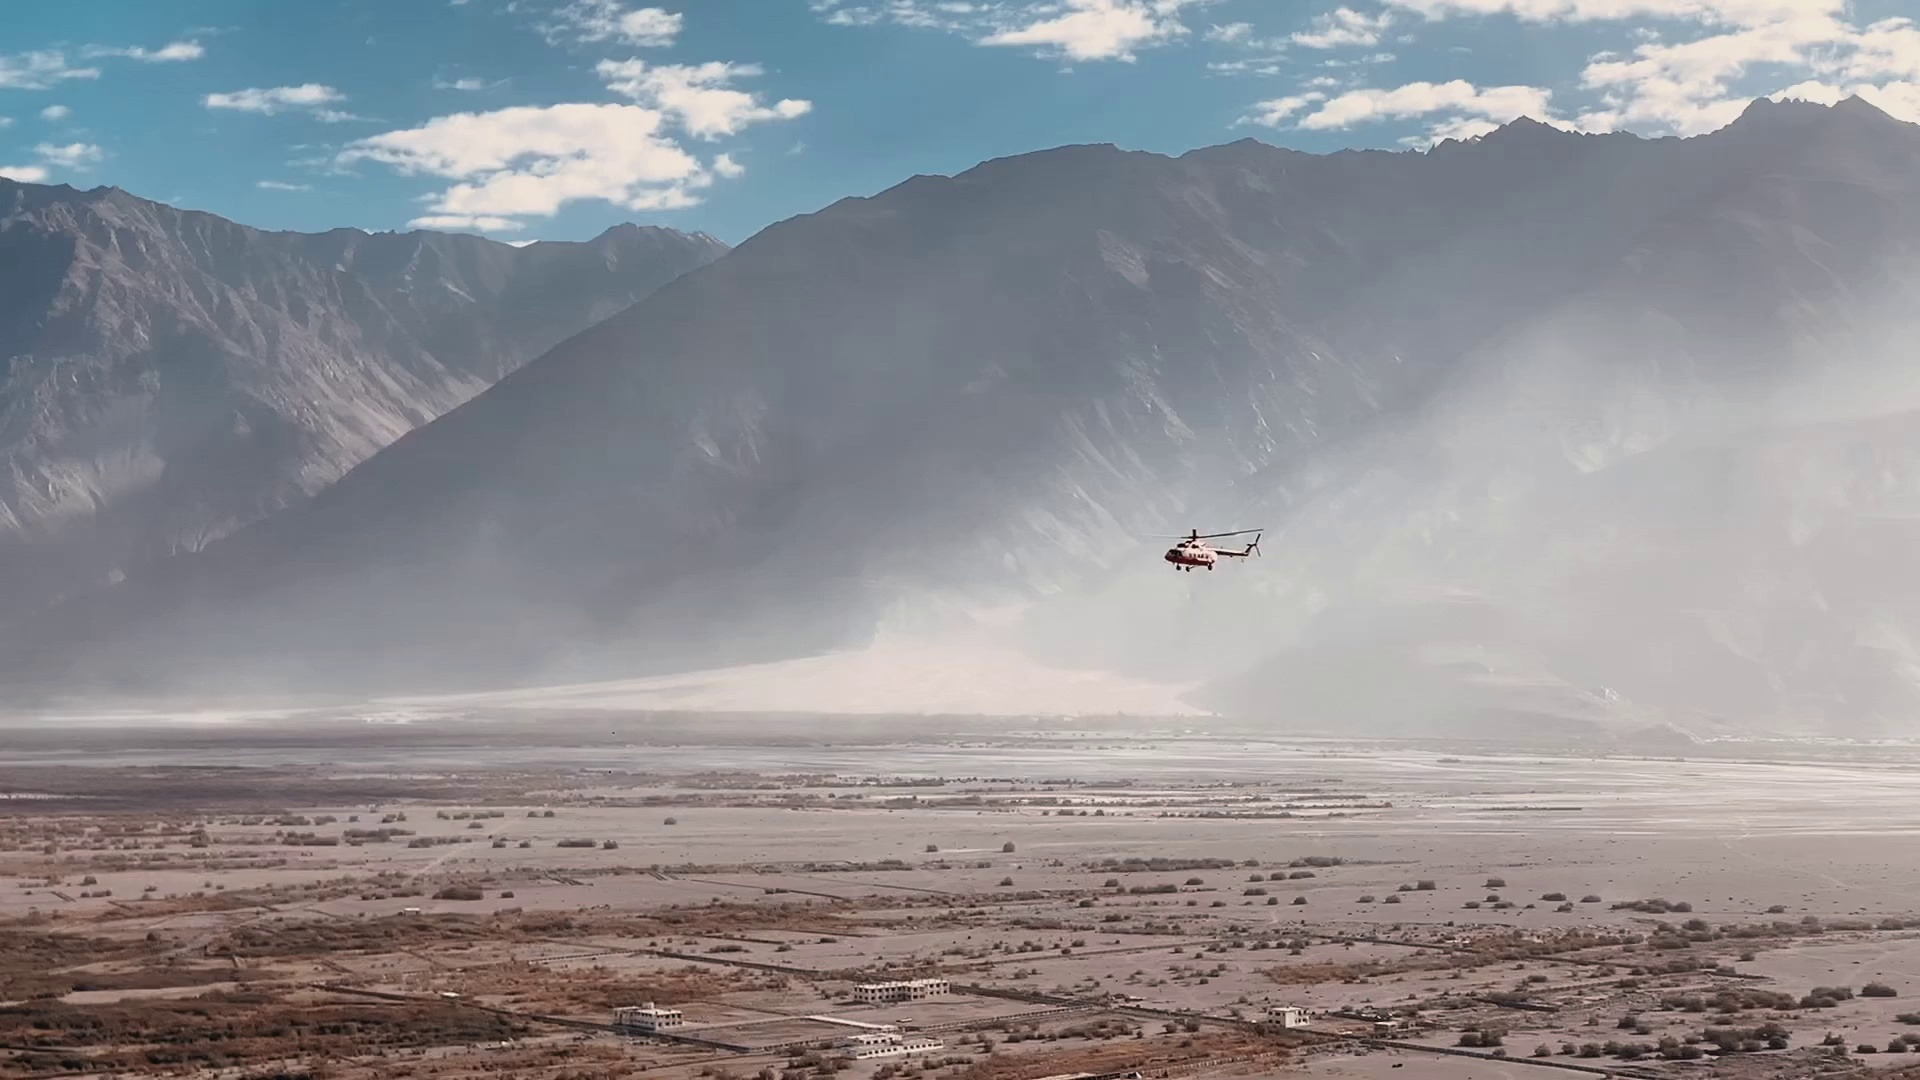heli: (1160, 522, 1265, 574)
